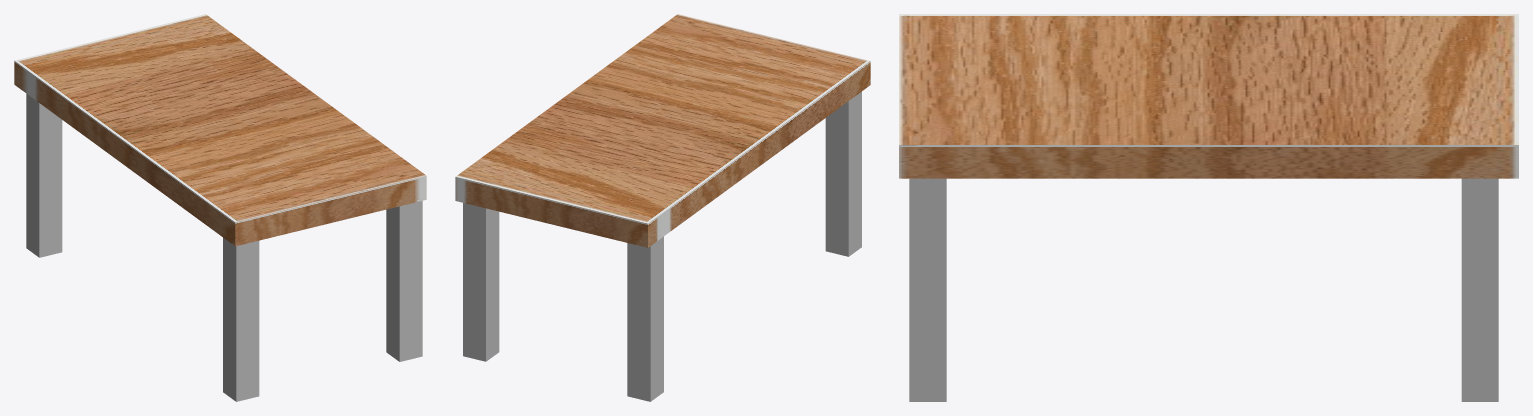
The model's file is Desk.obj.
3 renders of one model, left to right at view 1: azimuth 30°, elevation 25°; view 2: azimuth 150°, elevation 25°; view 3: azimuth 270°, elevation 25°, orthographic. The views are drawn at different scales.
Parts seen in each view (by area): view 1: Cube, Cube.004, Cube.001, Cube.003; view 2: Cube, Cube.003, Cube.002, Cube.004; view 3: Cube, Cube.001, Cube.002.
Part boxes in pixels (x1=…): Cube: x1=14, y1=14, x2=426, y2=246; Cube.004: x1=223, y1=237, x2=259, y2=401; Cube.001: x1=386, y1=201, x2=422, y2=361; Cube.003: x1=26, y1=94, x2=62, y2=257; Cube: x1=455, y1=14, x2=870, y2=247; Cube.003: x1=627, y1=236, x2=663, y2=401; Cube.002: x1=463, y1=203, x2=499, y2=361; Cube.004: x1=825, y1=91, x2=861, y2=256; Cube: x1=899, y1=14, x2=1518, y2=178; Cube.001: x1=909, y1=178, x2=946, y2=401; Cube.002: x1=1461, y1=178, x2=1498, y2=401.
Bounding box in the file's own units: 2 × 1.83 × 4.
Materials: 2 (1 with a texture image).
